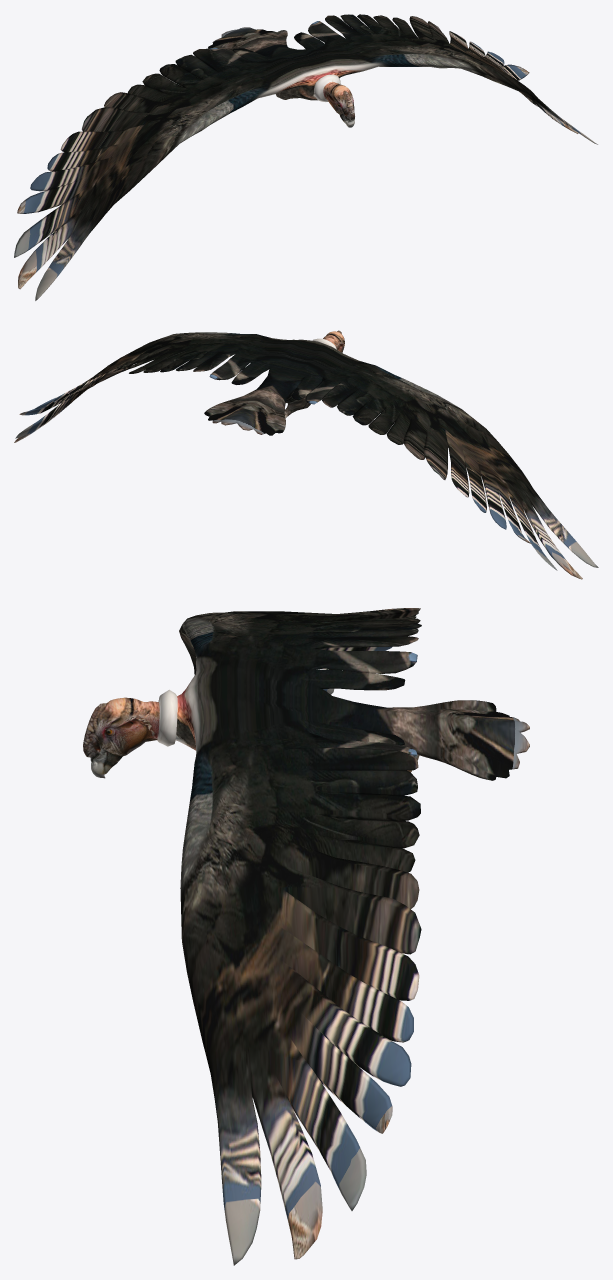
The picture shows the model from 3 angles, top to bottom: view 1: azimuth 30°, elevation 25°; view 2: azimuth 150°, elevation 25°; view 3: azimuth 270°, elevation 25°; orthographic projection. The views are drawn at different scales.
Parts seen in each view (by area): view 1: condor001; view 2: condor001; view 3: condor001.
Boxes of the visible parts, left/top/right/bottom form: condor001: left=14, top=14, right=597, bottom=300; condor001: left=14, top=330, right=598, bottom=579; condor001: left=83, top=608, right=529, bottom=1265.
Bounding box in the file's own units: 1517 × 416 × 522.
